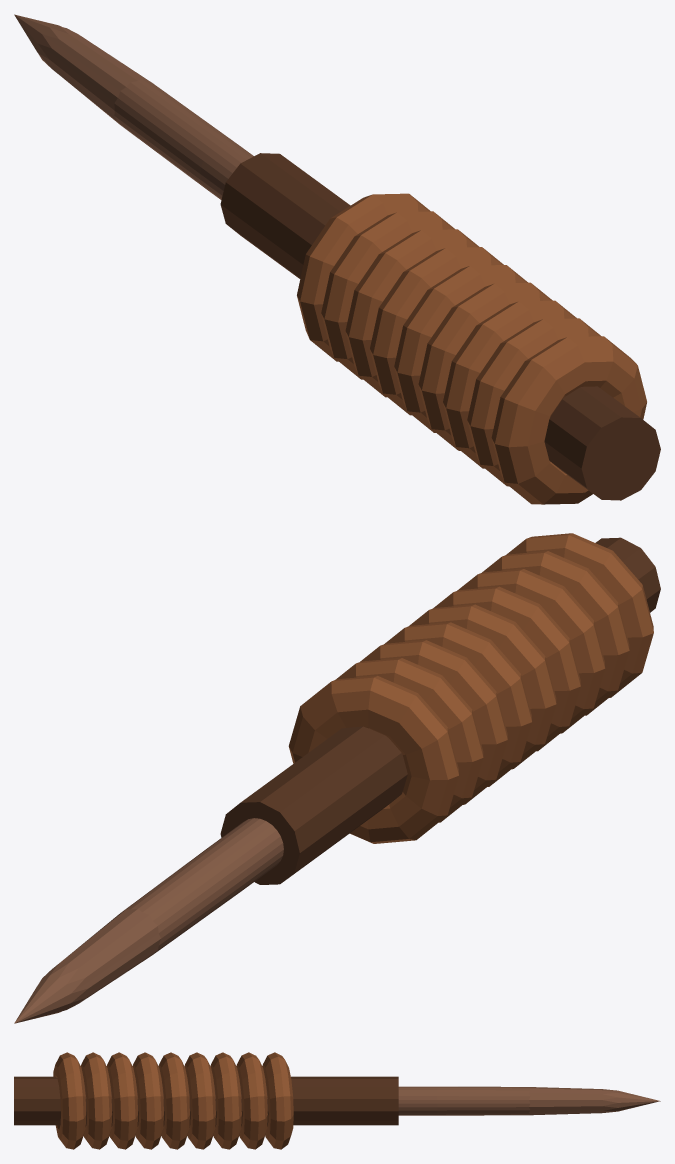
The model's file is Wand 4.glb.
3 views of the same model, one above another, from view 1: azimuth 30°, elevation 25°; view 2: azimuth 150°, elevation 25°; view 3: azimuth 270°, elevation 25° (orthographic). The views are drawn at different scales.
Visible parts, largest first — view 1: GeneratedWand; view 2: GeneratedWand; view 3: GeneratedWand.
Part boxes in pixels (x1,y1,x2,y2): GeneratedWand: [14, 14, 660, 504]; GeneratedWand: [14, 533, 660, 1023]; GeneratedWand: [14, 1052, 660, 1149].
Size of the model in its own units: 0.0709 by 0.0714 by 0.472.
